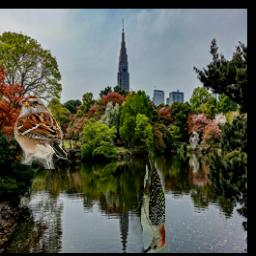Sparrow: (14, 95, 69, 169)
Woodpecker: (130, 142, 165, 253)
